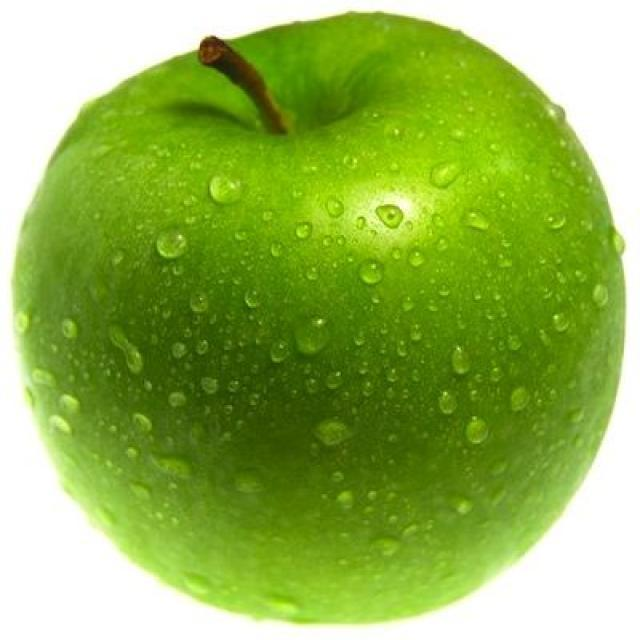Green Apple: (10, 10, 628, 626)
